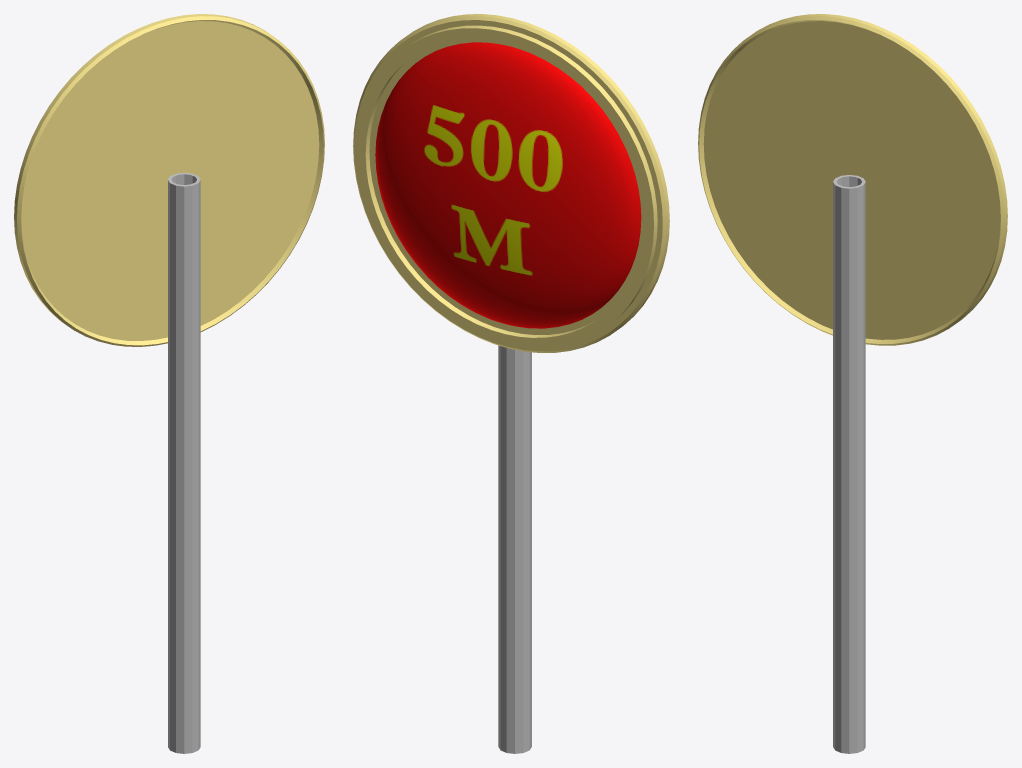
File: board.FBX
3 views of the same model, side by side, from view 1: azimuth 30°, elevation 25°; view 2: azimuth 150°, elevation 25°; view 3: azimuth 330°, elevation 25° (orthographic). The views are drawn at different scales.
Parts seen in each view (by area): view 1: pCylinder4, pCylinder5; view 2: pSphere1, pCylinder4, pCylinder5; view 3: pCylinder4, pCylinder5.
Part boxes in pixels (x1,y1,x2,y2): pCylinder4: (14,14,324,346); pCylinder5: (168,172,200,753); pSphere1: (375,42,641,328); pCylinder4: (353,14,669,352); pCylinder5: (498,345,531,753); pCylinder4: (698,14,1007,345); pCylinder5: (833,175,865,753).
Bounding box in the file's own units: 87.39 × 196 × 18.5.
